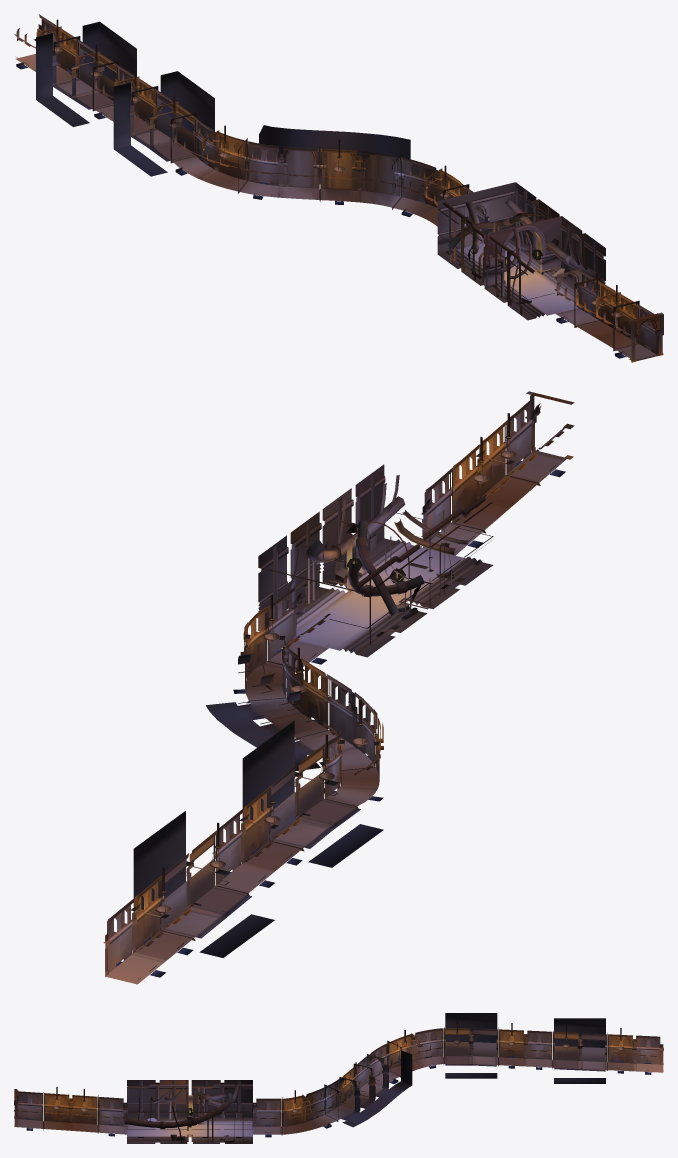
File: 05Hall.gltf
The picture shows the model from 3 angles, top to bottom: view 1: azimuth 30°, elevation 25°; view 2: azimuth 150°, elevation 25°; view 3: azimuth 270°, elevation 25°; orthographic projection. The views are drawn at different scales.
Parts seen in each view (by area): view 1: stg033_o10_Mesh_0060, stg033_o10_Mesh_0008, stg033_p11_Mesh_0001, stg033_o10_Mesh_0064, stg033_o10_Mesh_0068, stg033_o10_Mesh_0016, stg033_o10_Mesh_0025, stg033_o10_Mesh_0015, stg033_o10_Mesh_0052, stg033_o10_Mesh_0069, stg033_o10_Mesh_0017, stg033_o10_Mesh_0045 (+10 smaller); view 2: stg033_o10_Mesh_0060, stg033_o10_Mesh_0068, stg033_o10_Mesh_0052, stg033_o10_Mesh_0017, stg033_o10_Mesh_0016, stg033_o10_Mesh_0064, stg033_o10_Mesh_0008, stg033_o10_Mesh_0025, stg033_o10_Mesh_0066, stg033_o10_Mesh_0020, stg033_o10_Mesh_0045, stg033_o10_Mesh_0015 (+11 smaller); view 3: stg033_o10_Mesh_0060, stg033_o10_Mesh_0008, stg033_o10_Mesh_0068, stg033_o10_Mesh_0052, stg033_o10_Mesh_0064, stg033_o10_Mesh_0017, stg033_o10_Mesh_0016, stg033_o10_Mesh_0037, stg033_o10_Mesh_0025, stg033_o10_Mesh_0045, stg033_o10_Mesh_0015, stg033_o10_Mesh_0020 (+12 smaller).
Boxes of the visible parts, x1,y1,x2,y2 form: stg033_o10_Mesh_0060: [17, 21, 663, 358]; stg033_o10_Mesh_0008: [16, 26, 659, 355]; stg033_p11_Mesh_0001: [80, 60, 395, 194]; stg033_o10_Mesh_0064: [17, 21, 655, 359]; stg033_o10_Mesh_0068: [18, 56, 655, 358]; stg033_o10_Mesh_0016: [443, 188, 597, 302]; stg033_o10_Mesh_0025: [14, 28, 663, 338]; stg033_o10_Mesh_0015: [41, 19, 650, 325]; stg033_o10_Mesh_0052: [53, 51, 649, 347]; stg033_o10_Mesh_0069: [52, 36, 639, 351]; stg033_o10_Mesh_0017: [80, 43, 662, 360]; stg033_o10_Mesh_0045: [17, 14, 663, 362]; stg033_o10_Mesh_0060: [116, 391, 574, 977]; stg033_o10_Mesh_0068: [109, 454, 562, 980]; stg033_o10_Mesh_0052: [110, 443, 521, 962]; stg033_o10_Mesh_0017: [164, 447, 573, 882]; stg033_o10_Mesh_0016: [276, 475, 485, 645]; stg033_o10_Mesh_0064: [108, 409, 564, 981]; stg033_o10_Mesh_0008: [108, 426, 531, 970]; stg033_o10_Mesh_0025: [103, 395, 574, 951]; stg033_o10_Mesh_0066: [106, 420, 566, 984]; stg033_o10_Mesh_0020: [258, 523, 490, 654]; stg033_o10_Mesh_0045: [105, 396, 541, 981]; stg033_o10_Mesh_0015: [107, 404, 530, 939]; stg033_o10_Mesh_0060: [14, 1013, 651, 1137]; stg033_o10_Mesh_0008: [17, 1031, 660, 1126]; stg033_o10_Mesh_0068: [18, 1056, 659, 1134]; stg033_o10_Mesh_0052: [17, 1044, 660, 1124]; stg033_o10_Mesh_0064: [17, 1032, 660, 1134]; stg033_o10_Mesh_0017: [14, 1030, 605, 1143]; stg033_o10_Mesh_0016: [125, 1080, 252, 1143]; stg033_o10_Mesh_0037: [18, 1032, 656, 1137]; stg033_o10_Mesh_0025: [14, 1037, 663, 1141]; stg033_o10_Mesh_0045: [14, 1028, 663, 1133]; stg033_o10_Mesh_0015: [17, 1030, 660, 1137]; stg033_o10_Mesh_0020: [127, 1086, 252, 1141].
Size of the model in its own units: 58.21 by 19.99 by 206.
